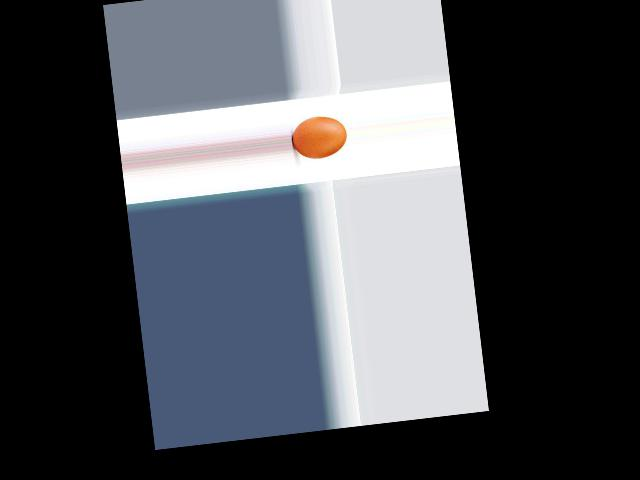egg: (290, 114, 348, 161)
